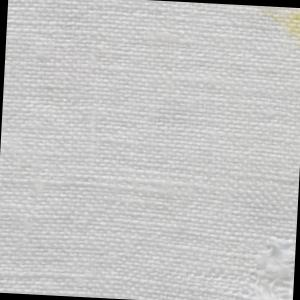Damage: (251, 237, 296, 300)
Stain: (261, 7, 300, 56)
